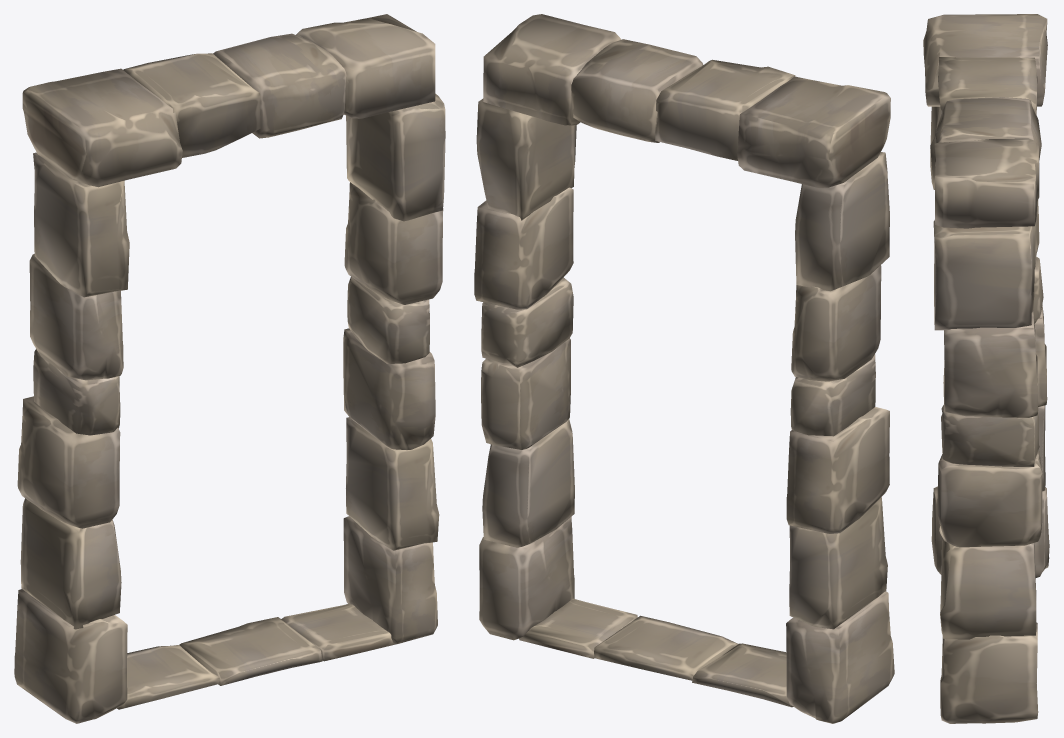
File: DoorFrame_Flat_Brick.gltf
3 views of the same model, side by side, from view 1: azimuth 30°, elevation 25°; view 2: azimuth 150°, elevation 25°; view 3: azimuth 270°, elevation 25° (orthographic). The views are drawn at different scales.
Visible parts, largest first — view 1: DoorFrame_Flat_Brick; view 2: DoorFrame_Flat_Brick; view 3: DoorFrame_Flat_Brick.
Boxes of the visible parts, left/top/right/bottom form: DoorFrame_Flat_Brick: left=14, top=14, right=445, bottom=723; DoorFrame_Flat_Brick: left=474, top=14, right=894, bottom=723; DoorFrame_Flat_Brick: left=923, top=14, right=1049, bottom=723.
Bounding box in the file's own units: 1.57 × 2.38 × 0.4943.
Materials: 1 (1 with a texture image).
